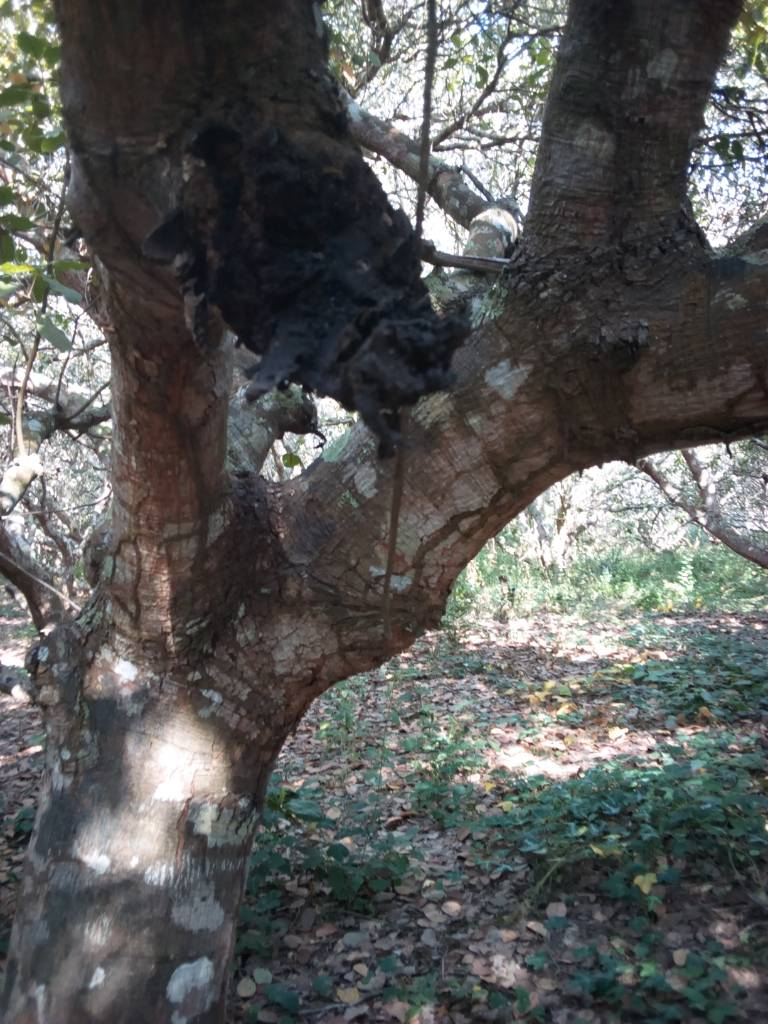Termites: (408, 439, 541, 572), (174, 414, 233, 592)
